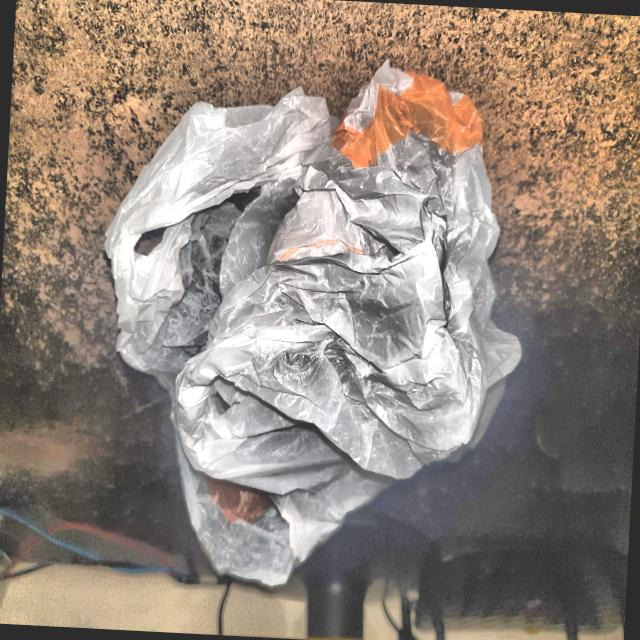plastic bag: (74, 35, 552, 608)
